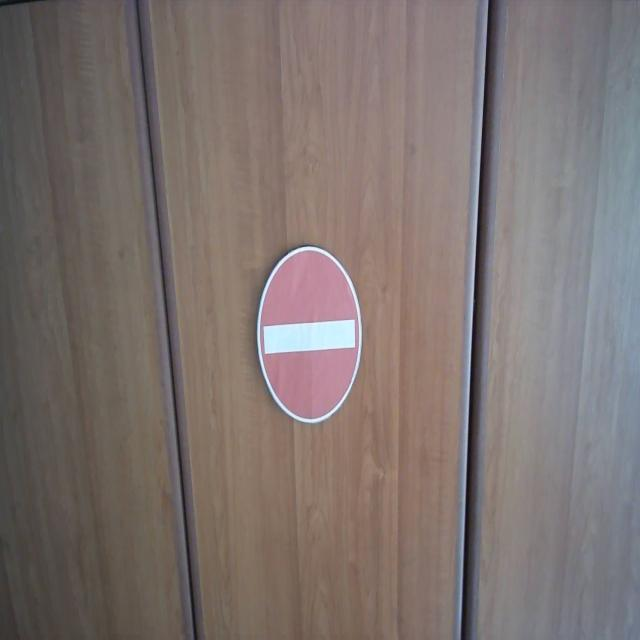no_entry: (255, 244, 364, 426)
